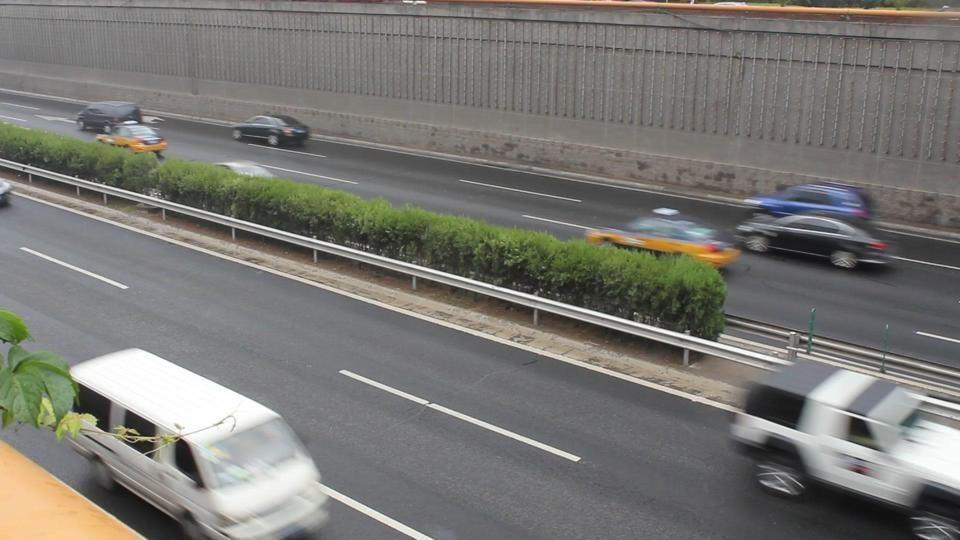car: (727, 357, 936, 516), (585, 211, 745, 274), (737, 210, 901, 270), (740, 182, 882, 223), (232, 113, 310, 149), (97, 122, 169, 156), (76, 100, 142, 132), (0, 178, 13, 207)
